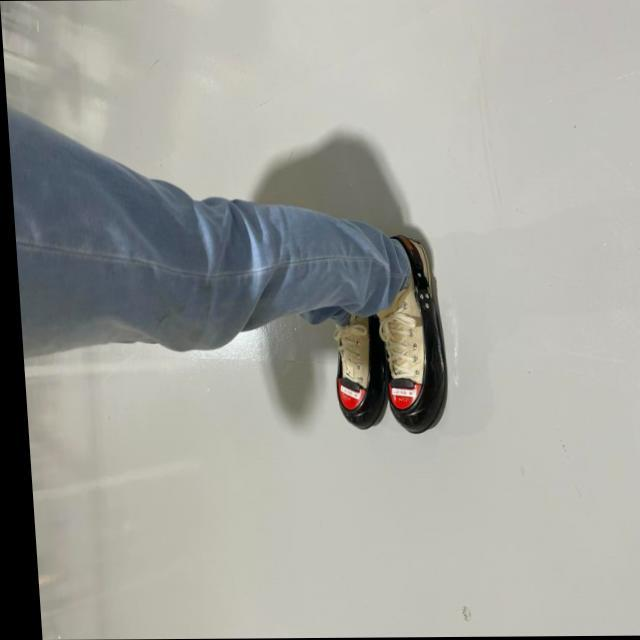shoes: (376, 233, 453, 443), (332, 313, 388, 432)
